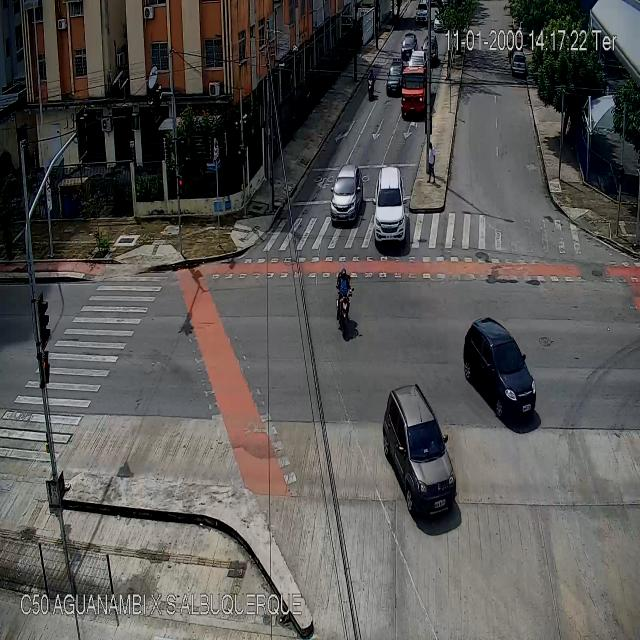Car: (382, 386, 456, 518), (463, 318, 539, 424), (373, 168, 407, 244), (330, 165, 364, 222), (421, 38, 439, 65), (412, 0, 430, 26), (387, 64, 402, 94), (401, 34, 416, 58), (512, 52, 526, 74), (433, 11, 444, 36)
Motorcycle: (336, 269, 354, 338)
Truck: (401, 54, 433, 120)
